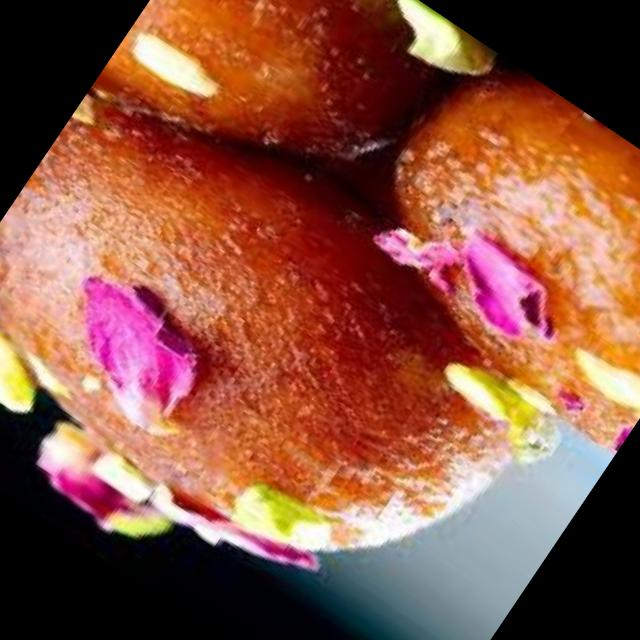gulab_jamun: (0, 31, 594, 640), (329, 41, 640, 455), (90, 0, 471, 249)
